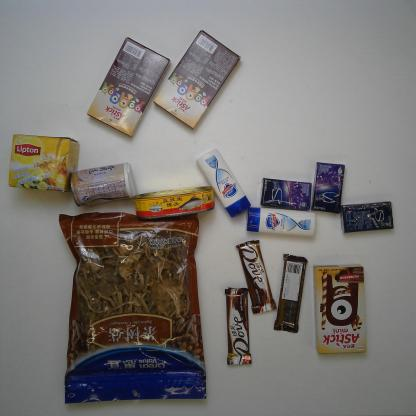Canned Food: (67, 160, 138, 209), (132, 184, 216, 223)
Chocolate: (230, 238, 279, 316), (272, 252, 309, 335), (223, 284, 254, 368)
Dessert: (152, 28, 244, 132), (85, 35, 172, 140), (310, 262, 370, 356)
Dried Food: (55, 203, 211, 408)
Gum: (258, 174, 314, 213), (309, 161, 347, 217), (339, 199, 396, 235)
Instant Drink: (7, 132, 82, 195)
Personal Hygiene: (196, 147, 253, 218), (242, 204, 318, 239)
